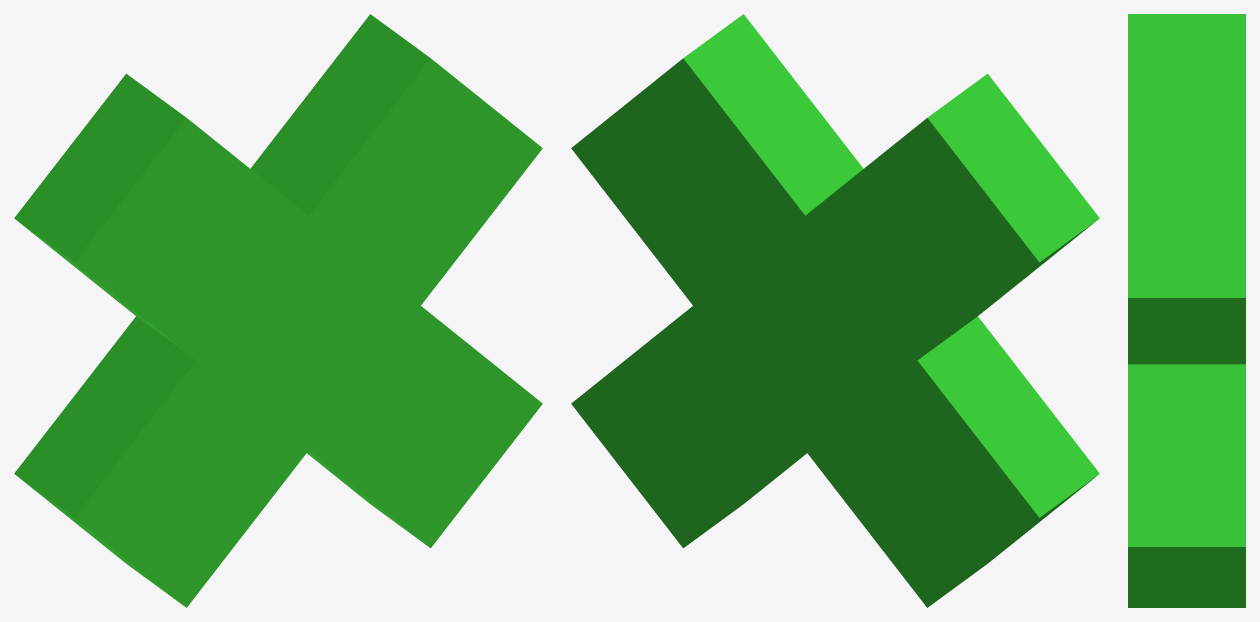
File: 02 cross.FBX
3 views of the same model, side by side, from view 1: azimuth 30°, elevation 25°; view 2: azimuth 150°, elevation 25°; view 3: azimuth 270°, elevation 25° (orthographic). The views are drawn at different scales.
Parts seen in each view (by area): view 1: SM_Icon_Cross_01; view 2: SM_Icon_Cross_01; view 3: SM_Icon_Cross_01.
Part boxes in pixels (x1=…): SM_Icon_Cross_01: x1=14, y1=14, x2=542, y2=607; SM_Icon_Cross_01: x1=571, y1=14, x2=1099, y2=607; SM_Icon_Cross_01: x1=1128, y1=14, x2=1245, y2=607.
Bounding box in the file's own units: 38.4 × 38.4 × 8.58.
